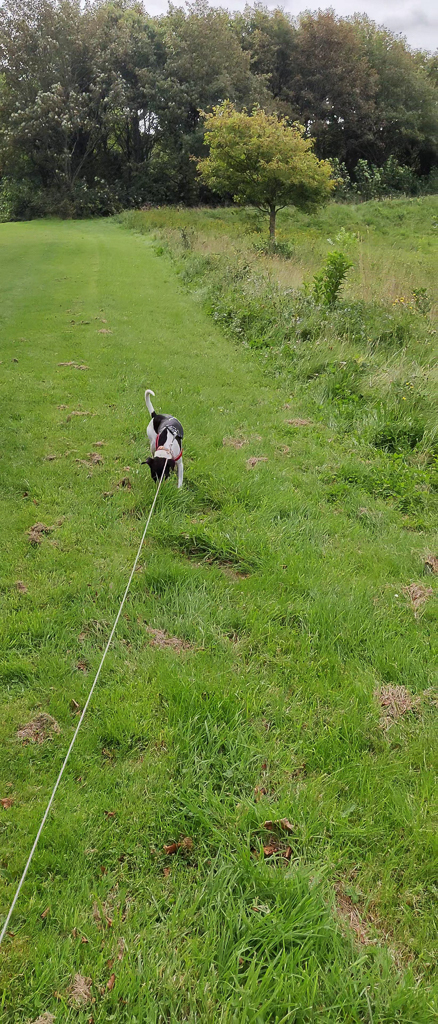Dog: (130, 386, 197, 492)
